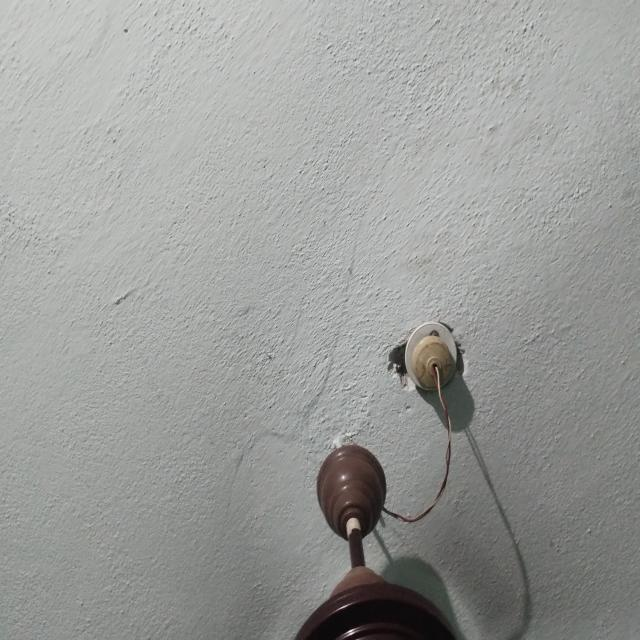fan_on: (8, 283, 640, 640)
